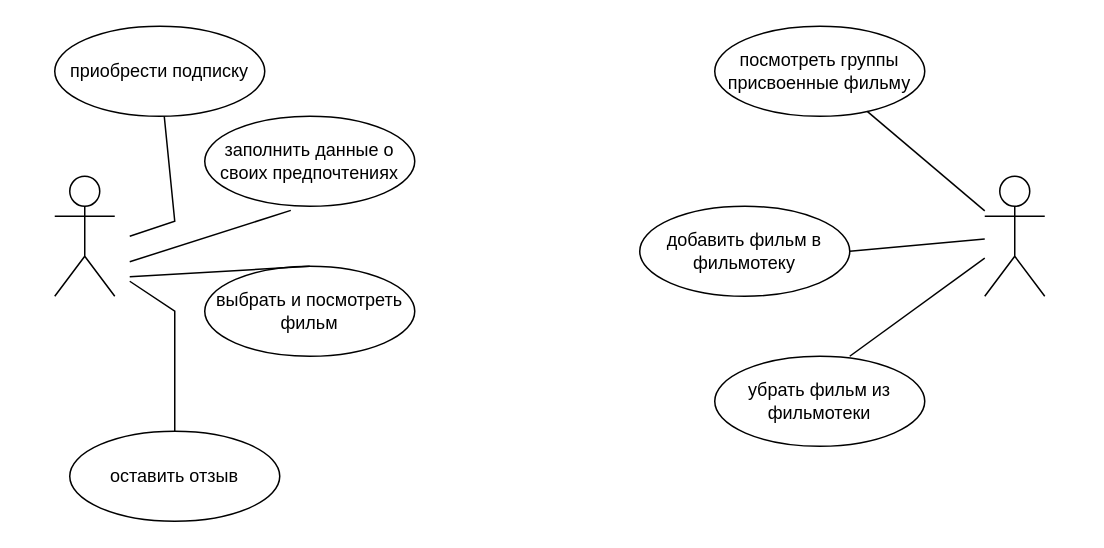
Some shapes in this 1104 by 548 pixel diagram are drawn without their labels. The shapes that lost their labels are listed below. From the top down, each one's centre as x and y in pixels, then its label:
At (84,235): "Пользователь".
At (1014,235): "администратор".
